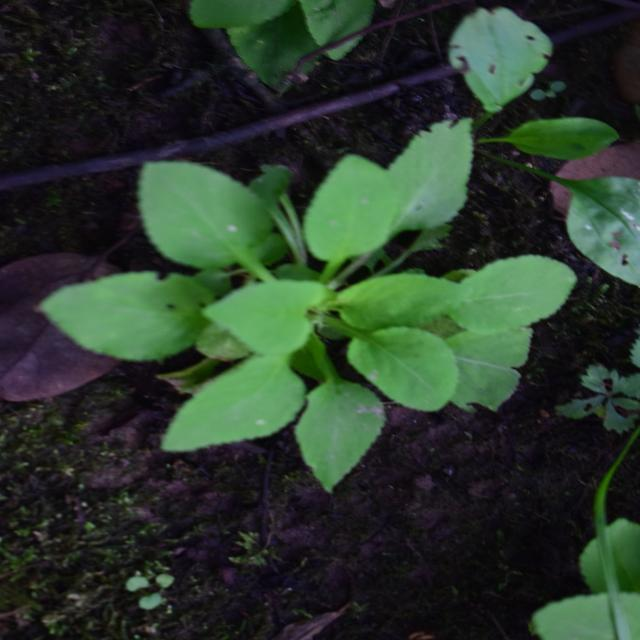Viola: (139, 83, 449, 548)
